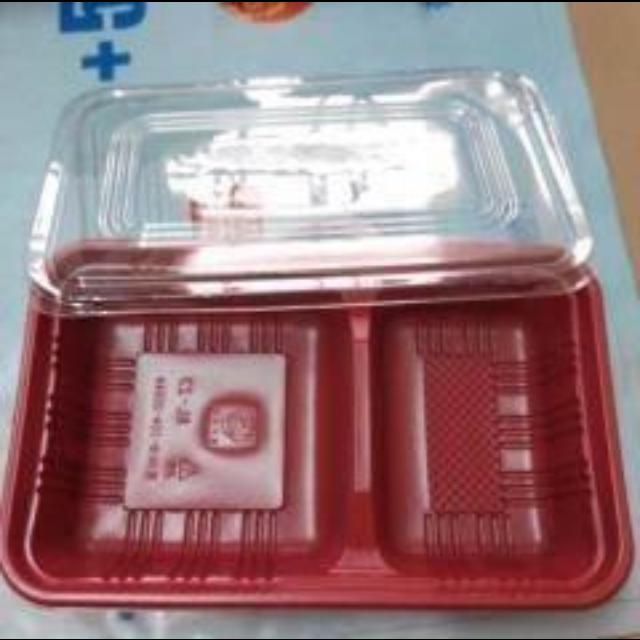plastic_box: (0, 54, 632, 606)
